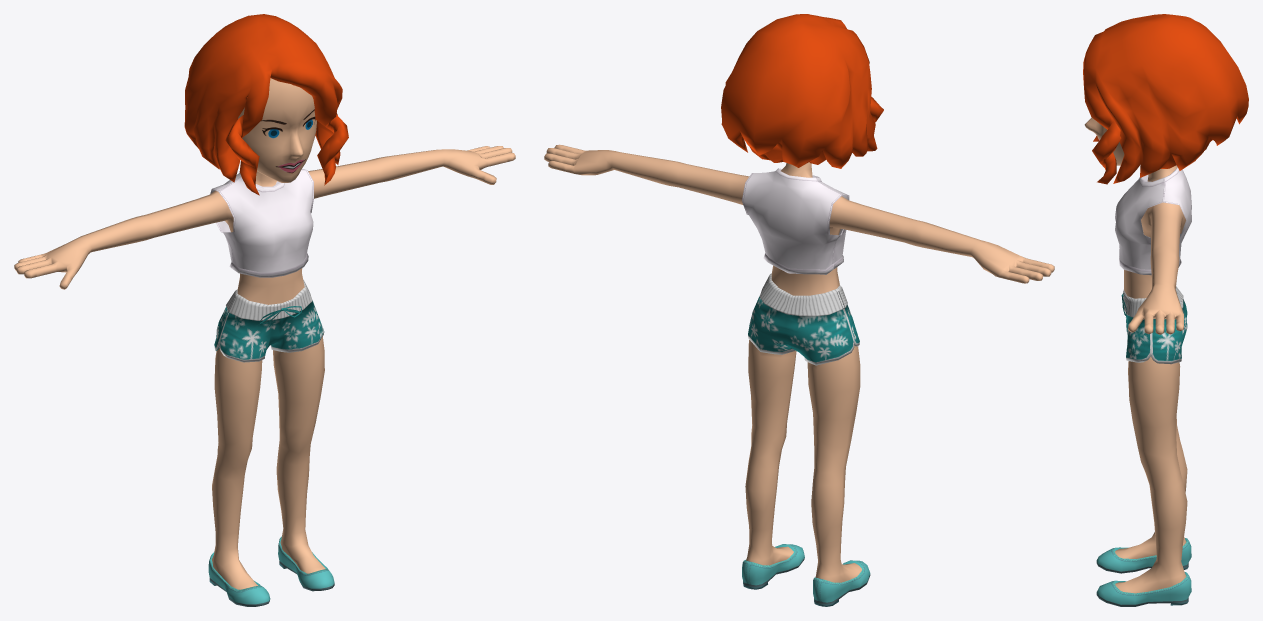
File: MS3D - Female Red Hair.glb
3 views of the same model, side by side, from view 1: azimuth 30°, elevation 25°; view 2: azimuth 150°, elevation 25°; view 3: azimuth 270°, elevation 25° (orthographic).
Visible parts, largest first — view 1: girl_body_mesh_Natal.6, FemaleHair_Natal.4, girl_top_Natal.7, girl_bottoms_Natal.8, girlHead_BlendShapeEarDefault_Natal.5, girl_shoes_Natal.9; view 2: girl_body_mesh_Natal.6, FemaleHair_Natal.4, girl_top_Natal.7, girl_bottoms_Natal.8, girl_shoes_Natal.9; view 3: FemaleHair_Natal.4, girl_body_mesh_Natal.6, girl_top_Natal.7, girl_shoes_Natal.9, girl_bottoms_Natal.8, girlHead_BlendShapeEarDefault_Natal.5.
Boxes of the visible parts, left/top/right/bottom form: girl_body_mesh_Natal.6: left=14, top=146, right=515, bottom=589; FemaleHair_Natal.4: left=184, top=14, right=348, bottom=195; girl_top_Natal.7: left=210, top=169, right=313, bottom=277; girl_bottoms_Natal.8: left=214, top=280, right=324, bottom=362; girlHead_BlendShapeEarDefault_Natal.5: left=238, top=78, right=316, bottom=182; girl_shoes_Natal.9: left=208, top=536, right=334, bottom=606; girl_body_mesh_Natal.6: left=544, top=144, right=1054, bottom=582; FemaleHair_Natal.4: left=721, top=14, right=883, bottom=168; girl_top_Natal.7: left=742, top=168, right=849, bottom=274; girl_bottoms_Natal.8: left=748, top=273, right=859, bottom=365; girl_shoes_Natal.9: left=742, top=544, right=870, bottom=606; FemaleHair_Natal.4: left=1083, top=14, right=1248, bottom=184; girl_body_mesh_Natal.6: left=1115, top=165, right=1187, bottom=593; girl_top_Natal.7: left=1115, top=166, right=1191, bottom=275; girl_shoes_Natal.9: left=1096, top=538, right=1191, bottom=606; girl_bottoms_Natal.8: left=1121, top=286, right=1187, bottom=364; girlHead_BlendShapeEarDefault_Natal.5: left=1084, top=117, right=1124, bottom=165.
Bounding box in the file's own units: 1.42 × 1.52 × 0.4053.
Materials: 6 (6 with a texture image).
